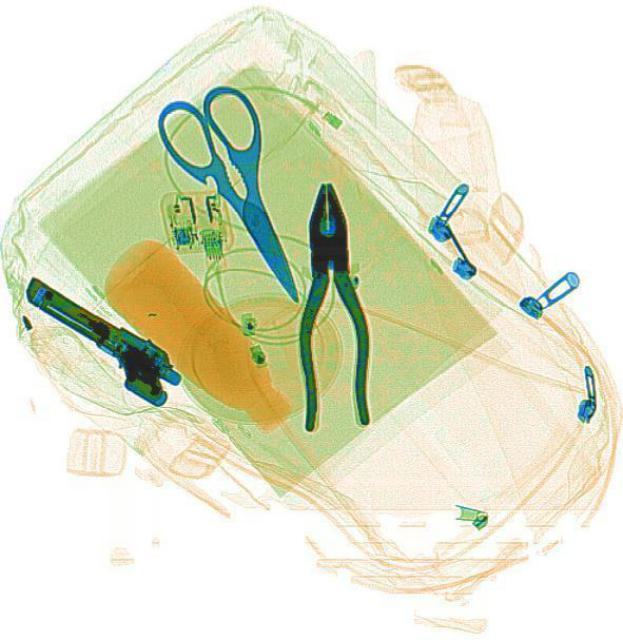Gun: (2, 272, 188, 408)
Pliers: (289, 180, 372, 432)
Scissors: (145, 71, 342, 321)
